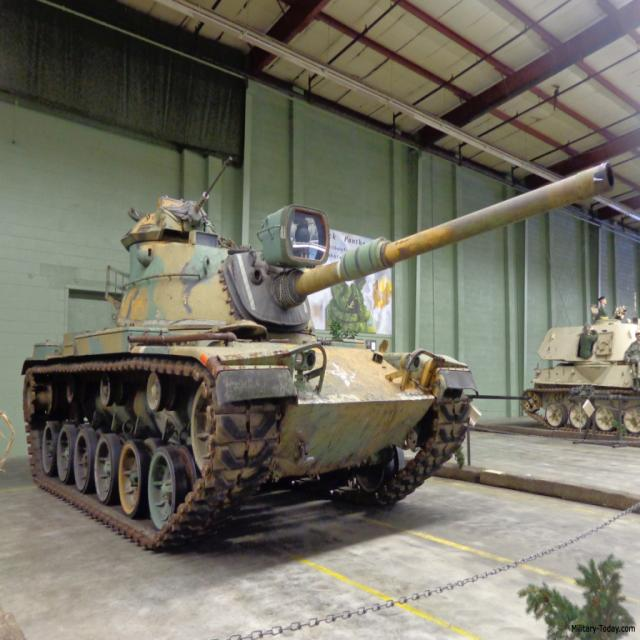Tank: (39, 143, 496, 540), (528, 294, 640, 422)
